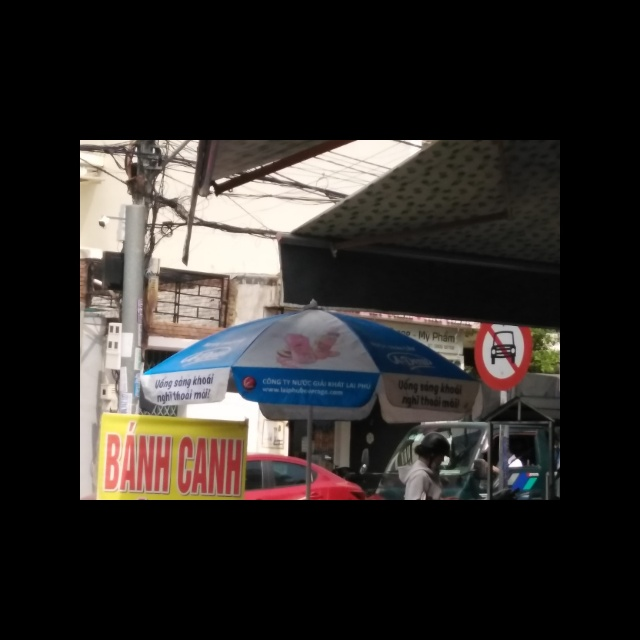Cấm xe ô tô: (471, 321, 534, 390)
